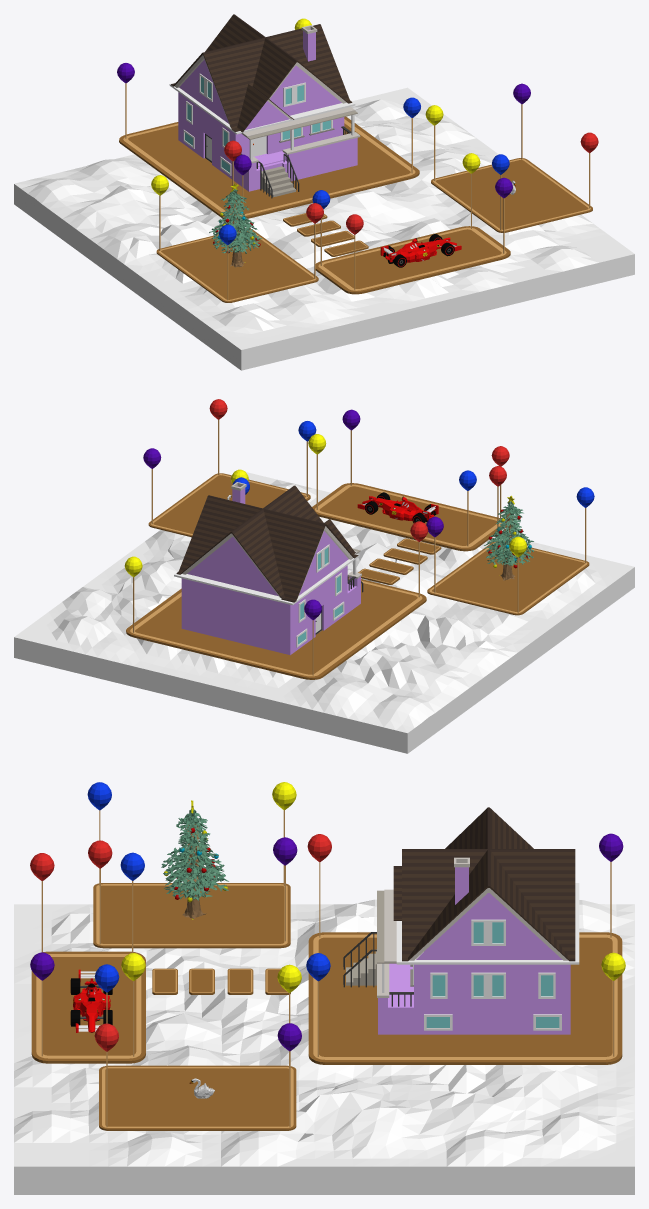
3 renders of one model, top to bottom at view 1: azimuth 30°, elevation 25°; view 2: azimuth 150°, elevation 25°; view 3: azimuth 270°, elevation 25°, orthographic. The views are drawn at different scales.
Parts seen in each view (by area): view 1: Cube.013, Cube.391, OBJRANDOM_CHRISTMAS_TREE, VEHICLES_FORMULA_1; view 2: Cube.013, Cube.391, OBJRANDOM_CHRISTMAS_TREE, VEHICLES_FORMULA_1; view 3: Cube.013, Cube.391, OBJRANDOM_CHRISTMAS_TREE, VEHICLES_FORMULA_1.
Part boxes in pixels (x1,y1,x2,y2): Cube.013: [14, 18, 634, 370]; Cube.391: [169, 14, 360, 198]; OBJRANDOM_CHRISTMAS_TREE: [209, 183, 261, 267]; VEHICLES_FORMULA_1: [380, 234, 461, 267]; Cube.013: [14, 399, 634, 753]; Cube.391: [174, 482, 363, 655]; OBJRANDOM_CHRISTMAS_TREE: [484, 495, 534, 580]; VEHICLES_FORMULA_1: [357, 492, 438, 522]; Cube.013: [14, 782, 634, 1194]; Cube.391: [343, 807, 579, 1034]; OBJRANDOM_CHRISTMAS_TREE: [161, 800, 228, 919]; VEHICLES_FORMULA_1: [70, 969, 112, 1032].
Size of the model in its own units: 4000 by 1711 by 4000.
Materials: 38 (2 with a texture image).
